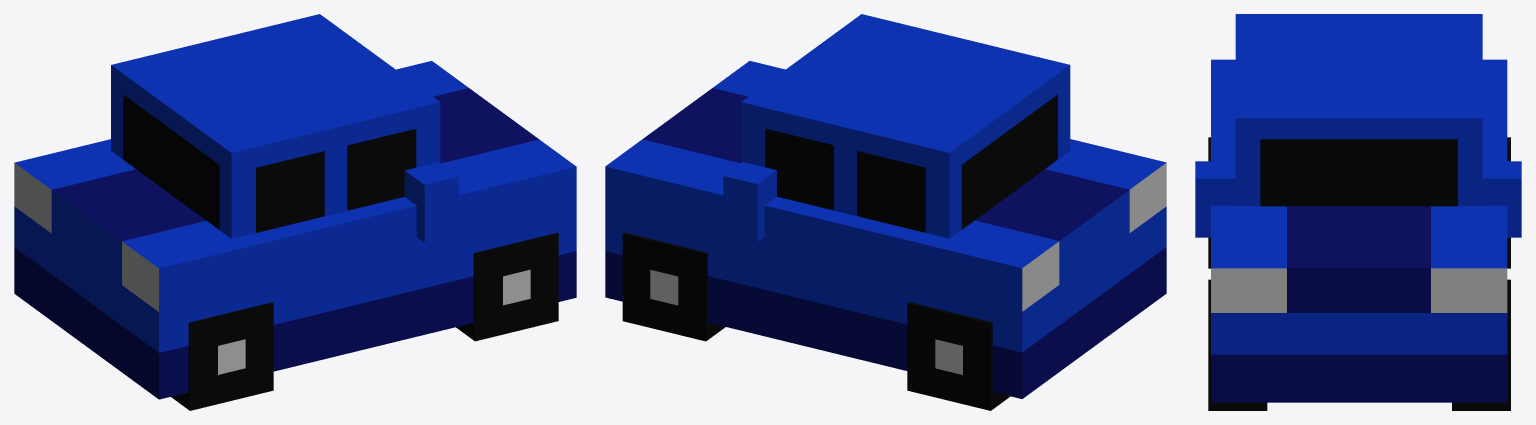
File: CarBlue.fbx
3 views of the same model, side by side, from view 1: azimuth 30°, elevation 25°; view 2: azimuth 150°, elevation 25°; view 3: azimuth 270°, elevation 25° (orthographic). The views are drawn at different scales.
Visible parts, largest first — view 1: Car:CarBlue:pCube18; view 2: Car:CarBlue:pCube18; view 3: Car:CarBlue:pCube18.
Boxes of the visible parts, x1,y1,x2,y2 form: Car:CarBlue:pCube18: [14, 14, 576, 410]; Car:CarBlue:pCube18: [605, 14, 1166, 410]; Car:CarBlue:pCube18: [1195, 14, 1521, 410].
Bounding box in the file's own units: 0.7492 × 0.4023 × 0.4955.
